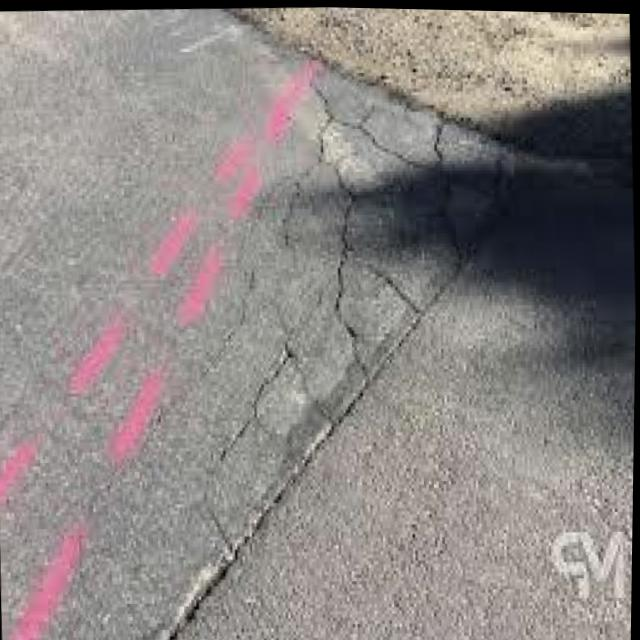Crack: (330, 125, 496, 361), (207, 319, 367, 554)
